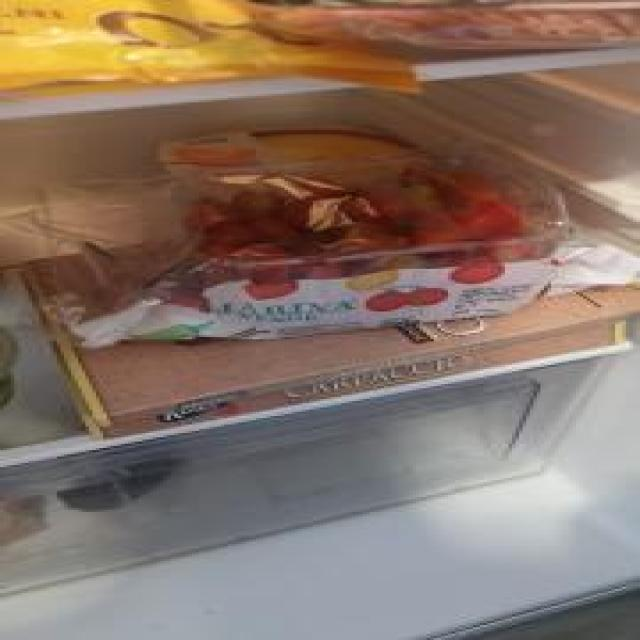tomato: (455, 199, 523, 238), (233, 186, 283, 216), (212, 220, 258, 250)
